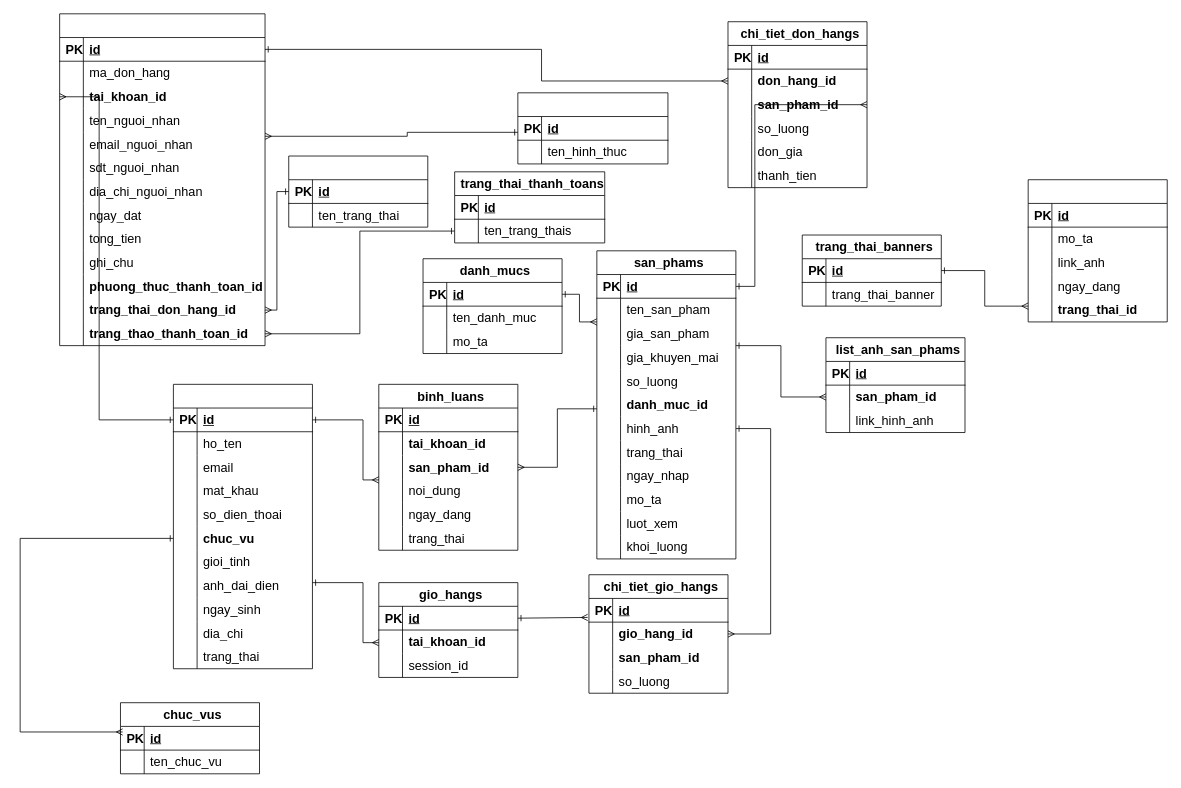
This 1181x788 diagram has some shape labels left out. The shapes that lost their labels are listed below. From the top down, each one's box as (x1, y1, x2, y2) in pixels, then its label:
(517, 92, 668, 164): thanh_toans
(59, 13, 265, 346): don_hangs
(288, 155, 428, 227): trang_thai_don_hangs
(1027, 179, 1167, 322): banners
(173, 384, 312, 669): tai_khoans
